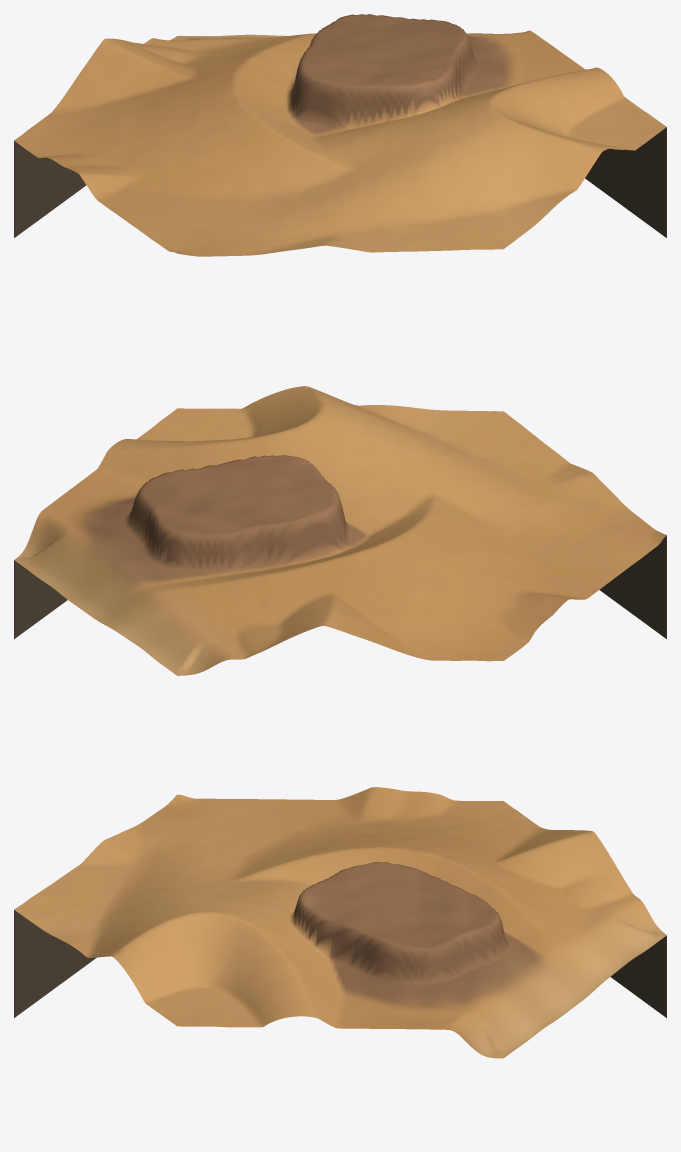
3 renders of one model, top to bottom at view 1: azimuth 30°, elevation 25°; view 2: azimuth 150°, elevation 25°; view 3: azimuth 270°, elevation 25°, orthographic.
Visible parts, largest first — view 1: terrain, hex_side_cut; view 2: terrain, hex_side_cut; view 3: terrain, hex_side_cut.
Boxes of the visible parts, box(x1,y1,x2,y2) form: terrain: box(14, 14, 666, 256); hex_side_cut: box(14, 127, 666, 237); terrain: box(14, 386, 666, 675); hex_side_cut: box(14, 535, 666, 638); terrain: box(14, 787, 666, 1058); hex_side_cut: box(14, 910, 666, 1017).
Bounding box in the file's own units: 4330 × 1296 × 5000.
